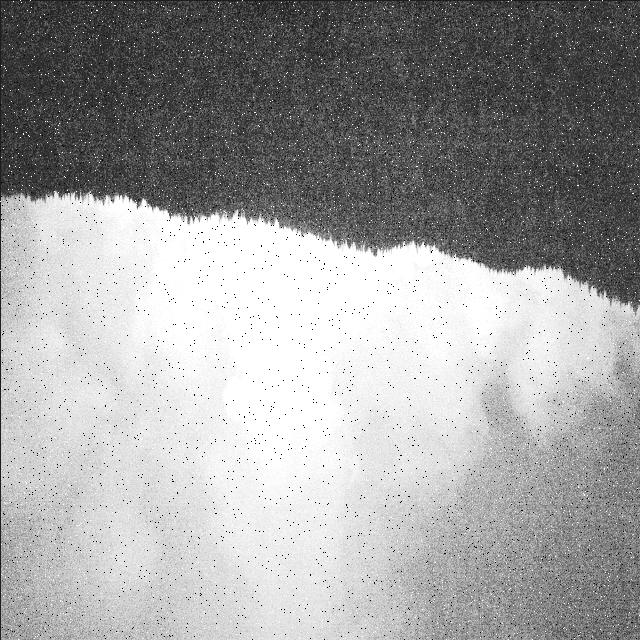asap: (125, 213, 444, 602)
